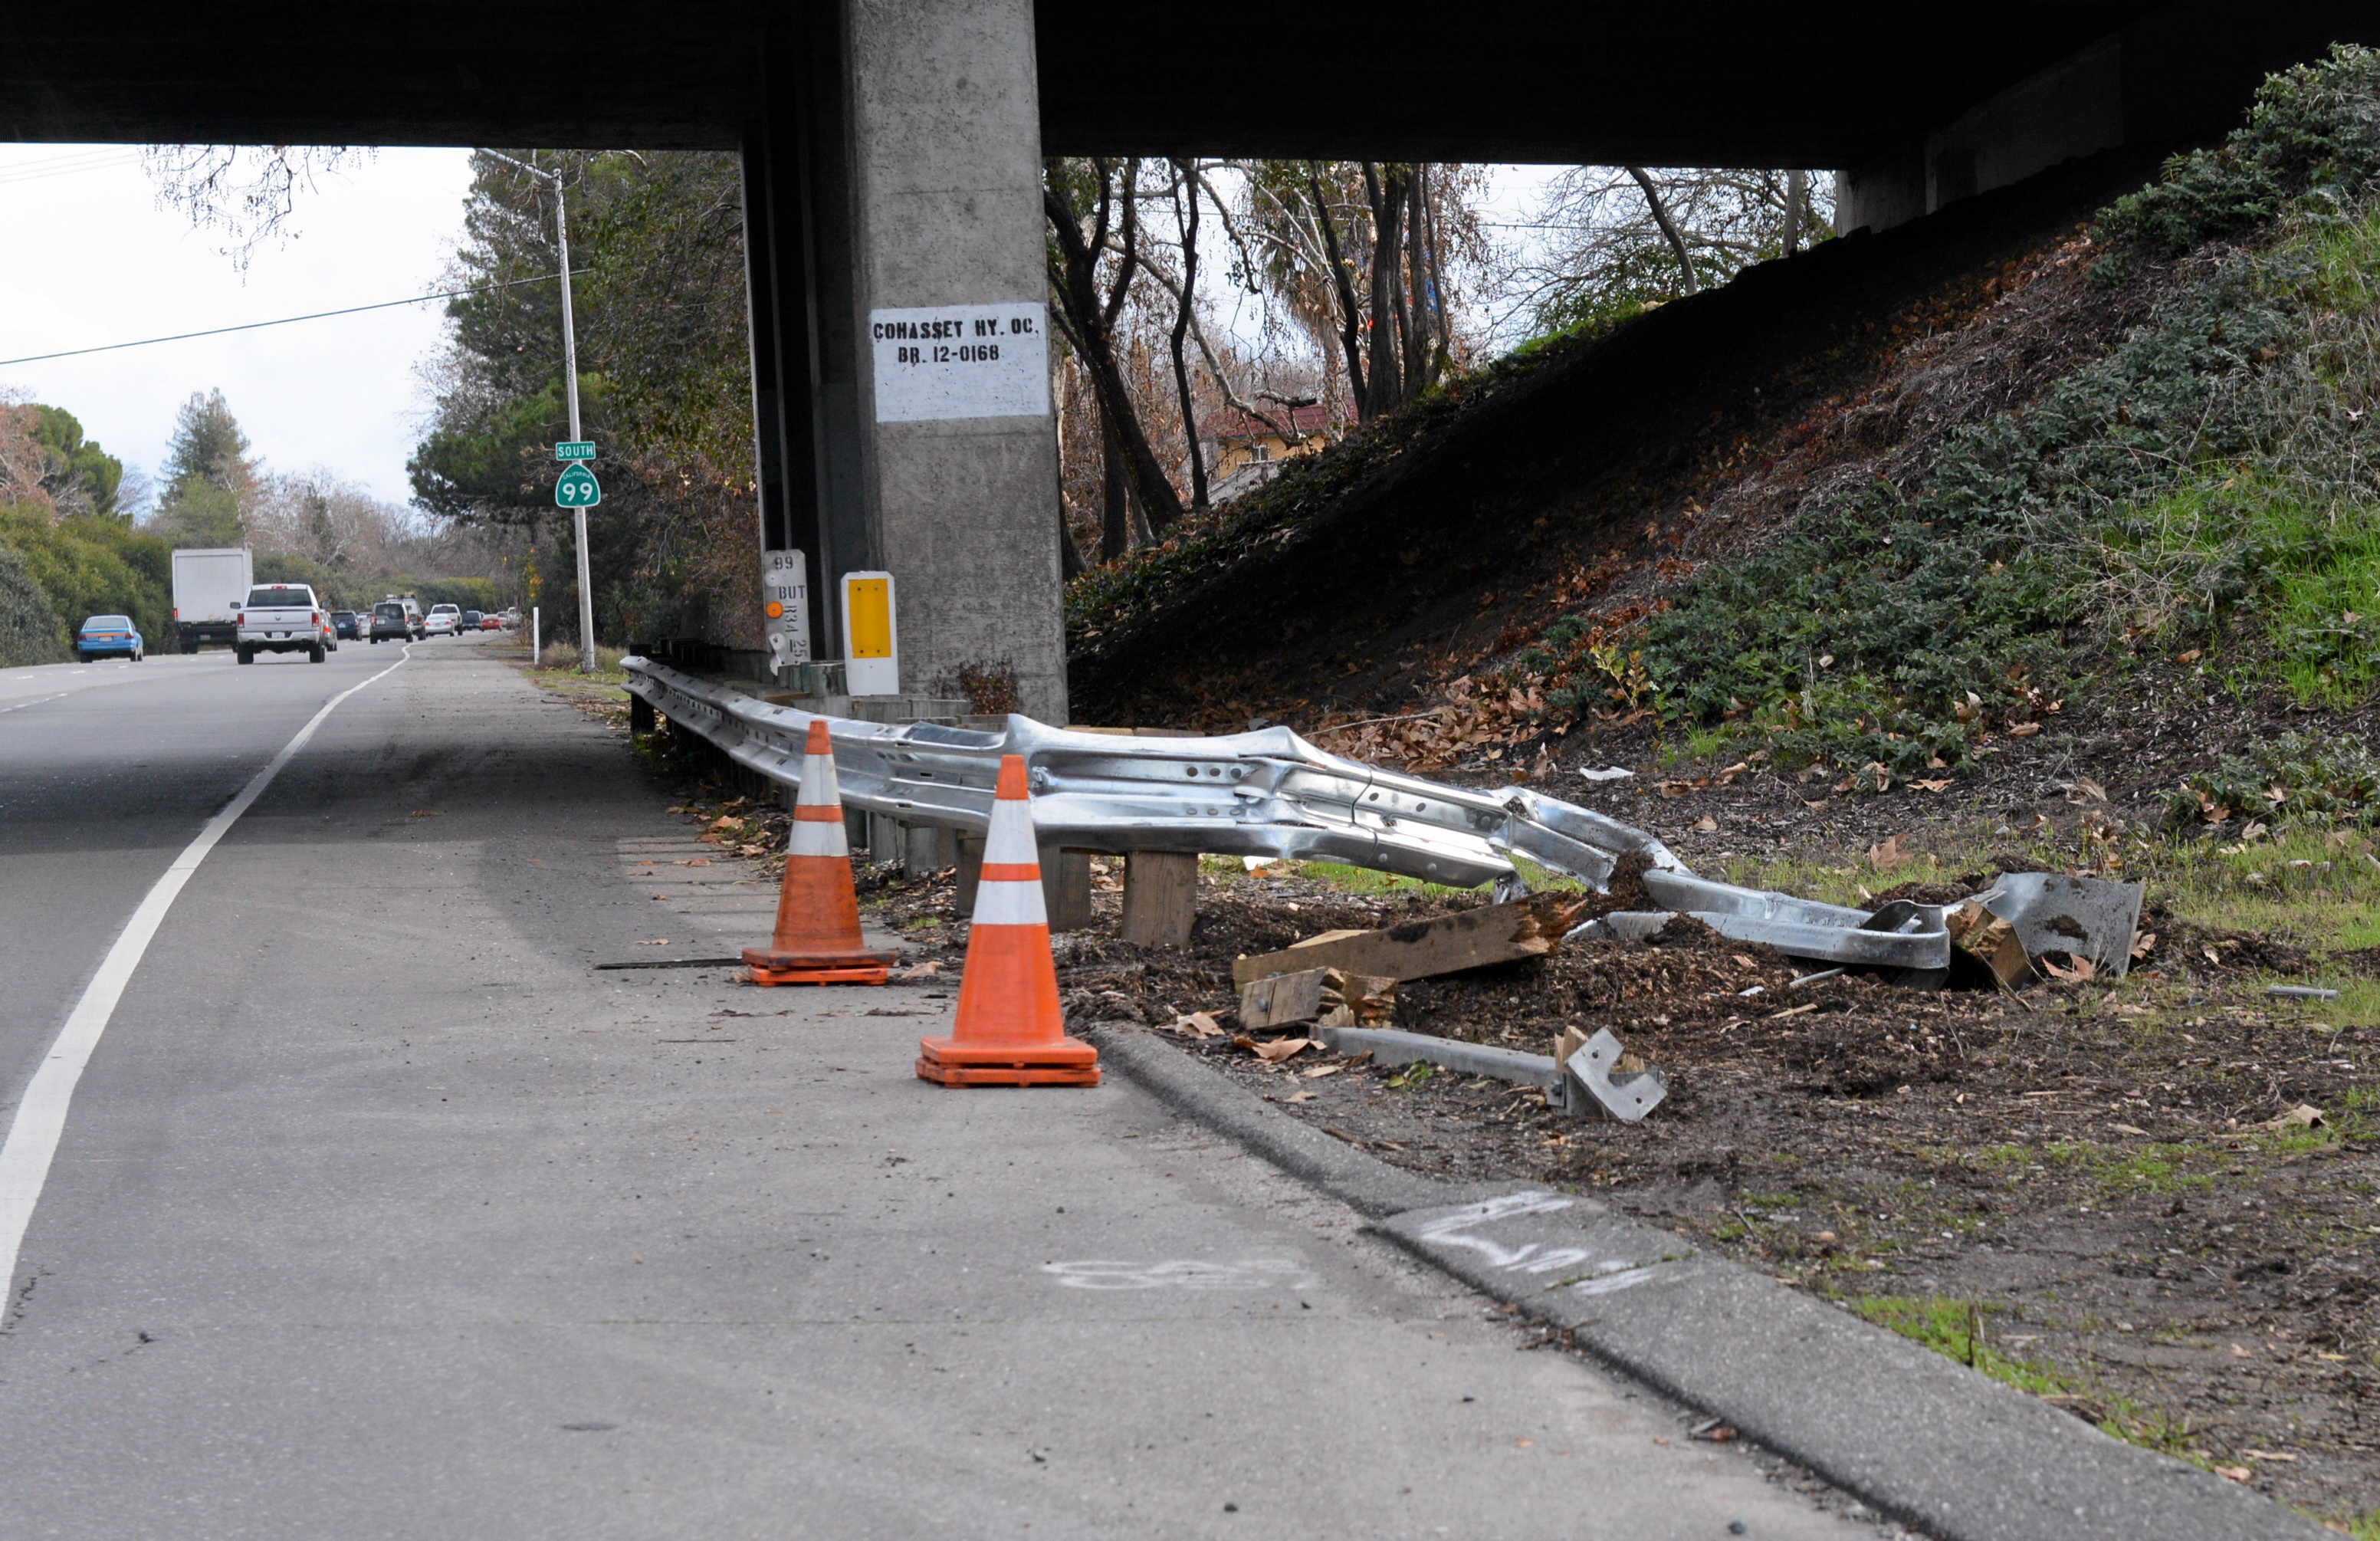damaged: (866, 671, 2214, 1014)
